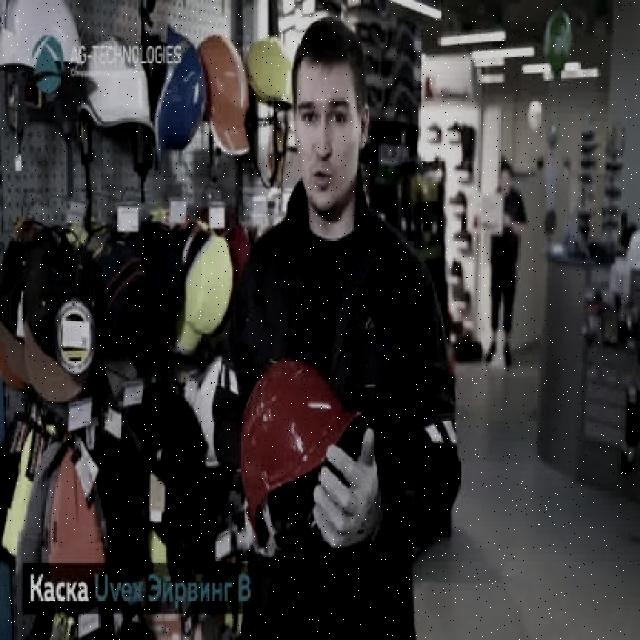Gloves: (311, 420, 384, 554)
Helmet: (238, 357, 364, 563), (150, 22, 206, 166), (76, 34, 156, 132), (198, 28, 252, 160), (1, 0, 85, 82), (246, 34, 294, 110)
